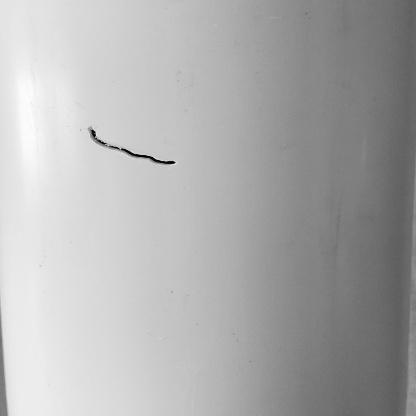fengxi: (83, 119, 183, 169)
